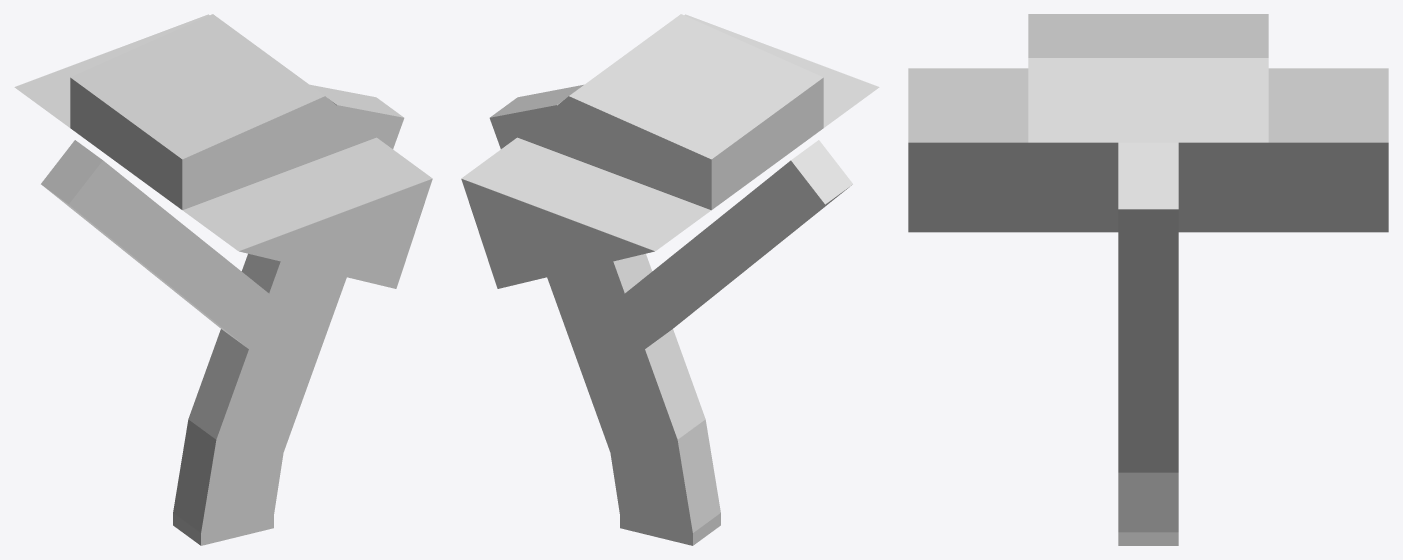
File: dc_metro_roof_i3b.obj
3 renders of one model, left to right at view 1: azimuth 30°, elevation 25°; view 2: azimuth 150°, elevation 25°; view 3: azimuth 270°, elevation 25°, orthographic. The views are drawn at different scales.
Parts seen in each view (by area): view 1: part3b; view 2: part3b; view 3: part3b.
Boxes of the visible parts, x1=… form: part3b: x1=14, y1=14, x2=432, y2=545; part3b: x1=461, y1=14, x2=879, y2=545; part3b: x1=908, y1=14, x2=1388, y2=545.
Size of the model in its own units: 1.73 by 2.27 by 2.
1 material, 1 textured.
